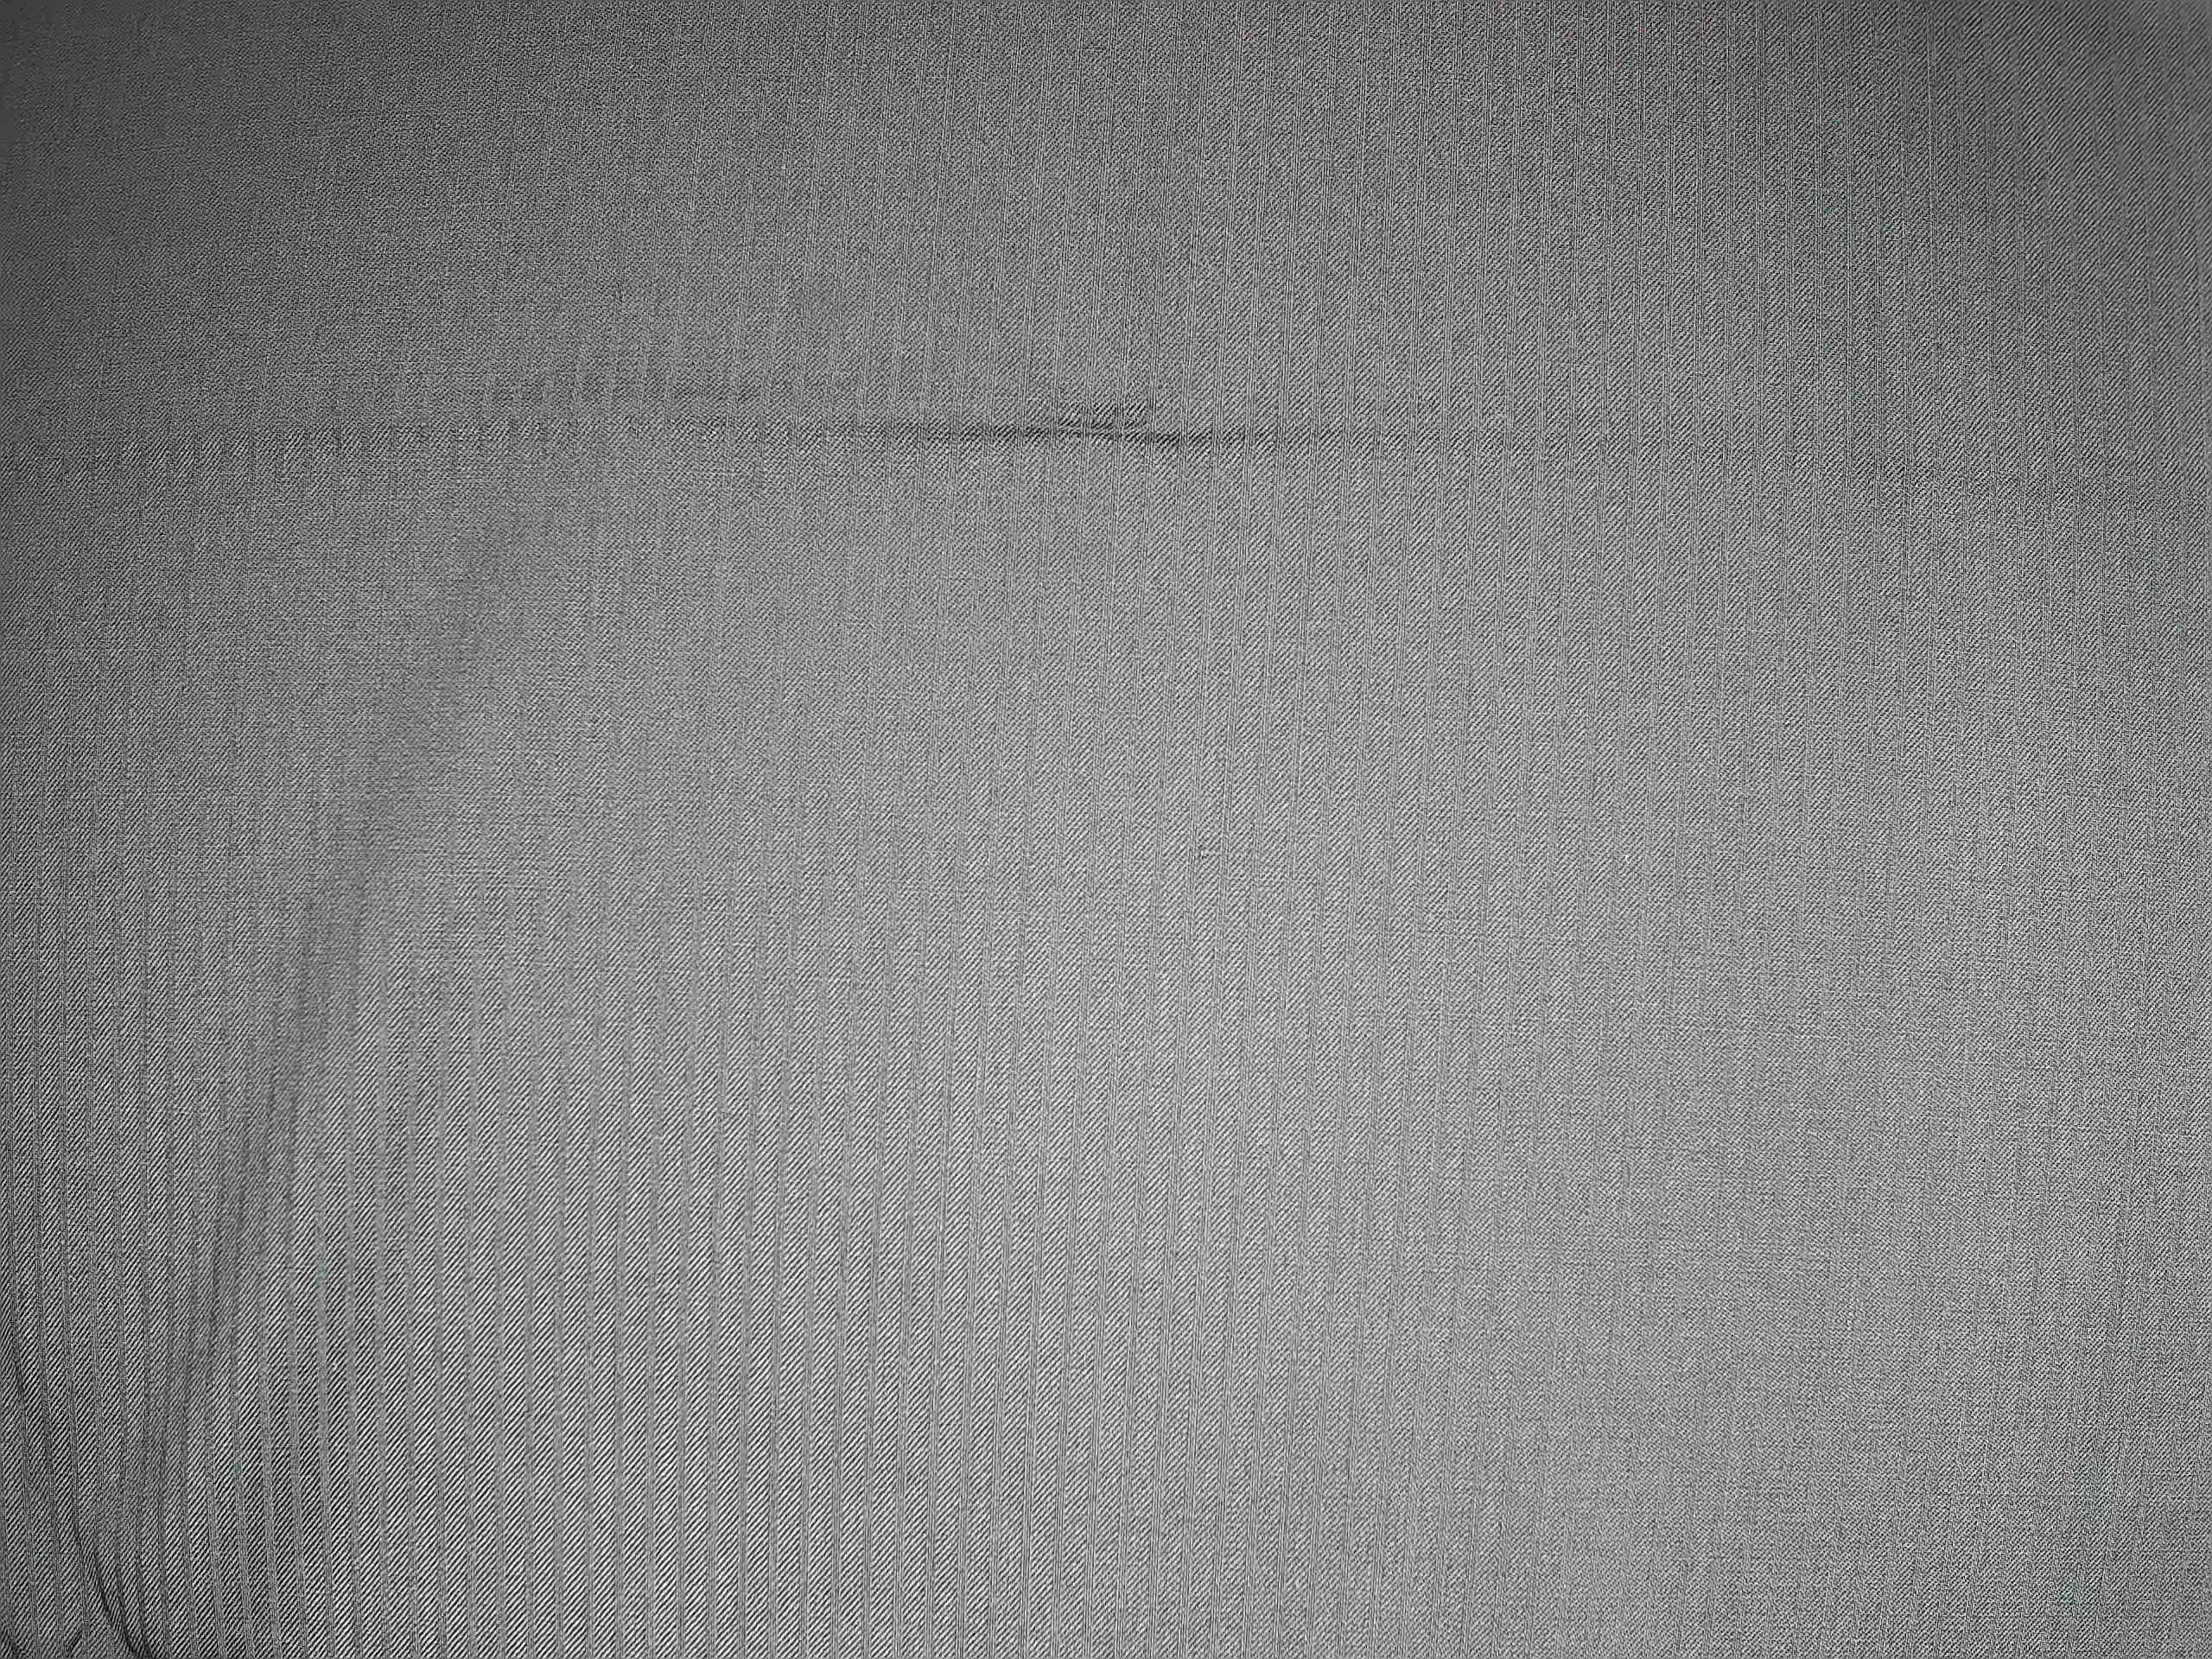others: (1163, 819, 1291, 884)
